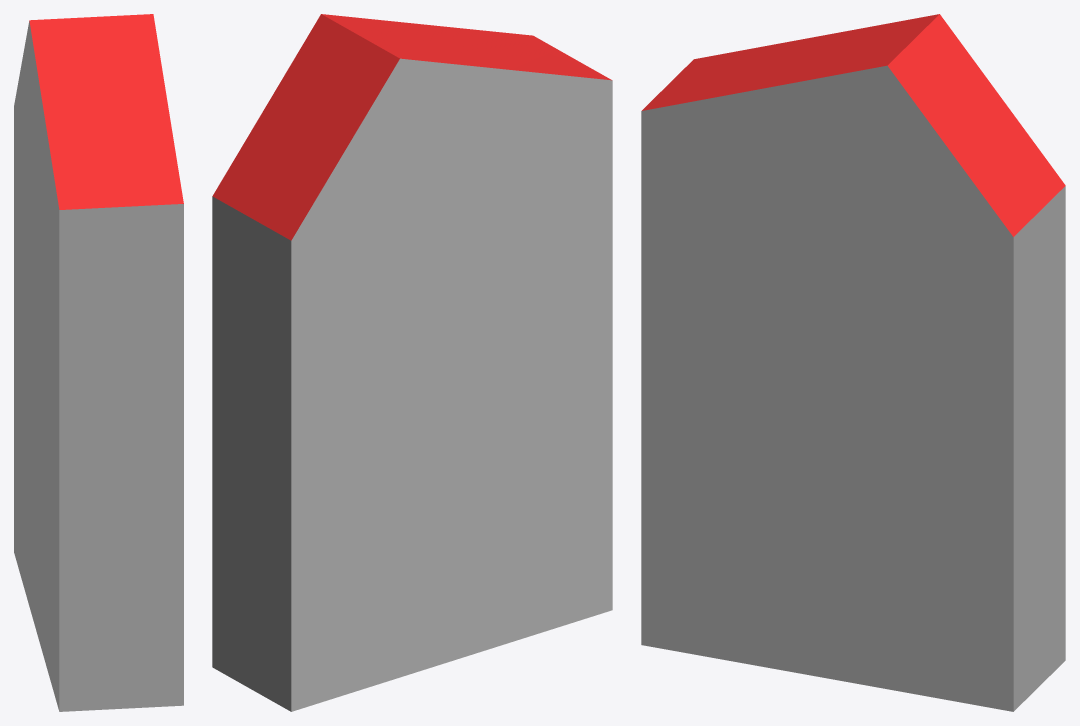
File: DEBY_LOD2_4907012.dae
3 views of the same model, side by side, from view 1: azimuth 30°, elevation 25°; view 2: azimuth 150°, elevation 25°; view 3: azimuth 270°, elevation 25° (orthographic). The views are drawn at different scales.
Bounding box in the file's own units: 8.66 × 13.08 × 21.2.
